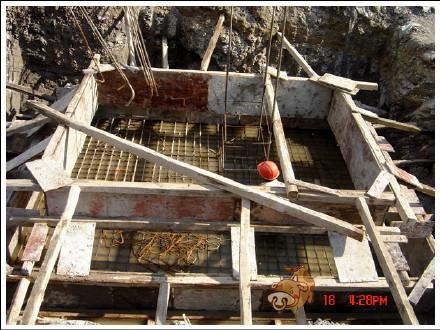helmet: (260, 162, 280, 182)
